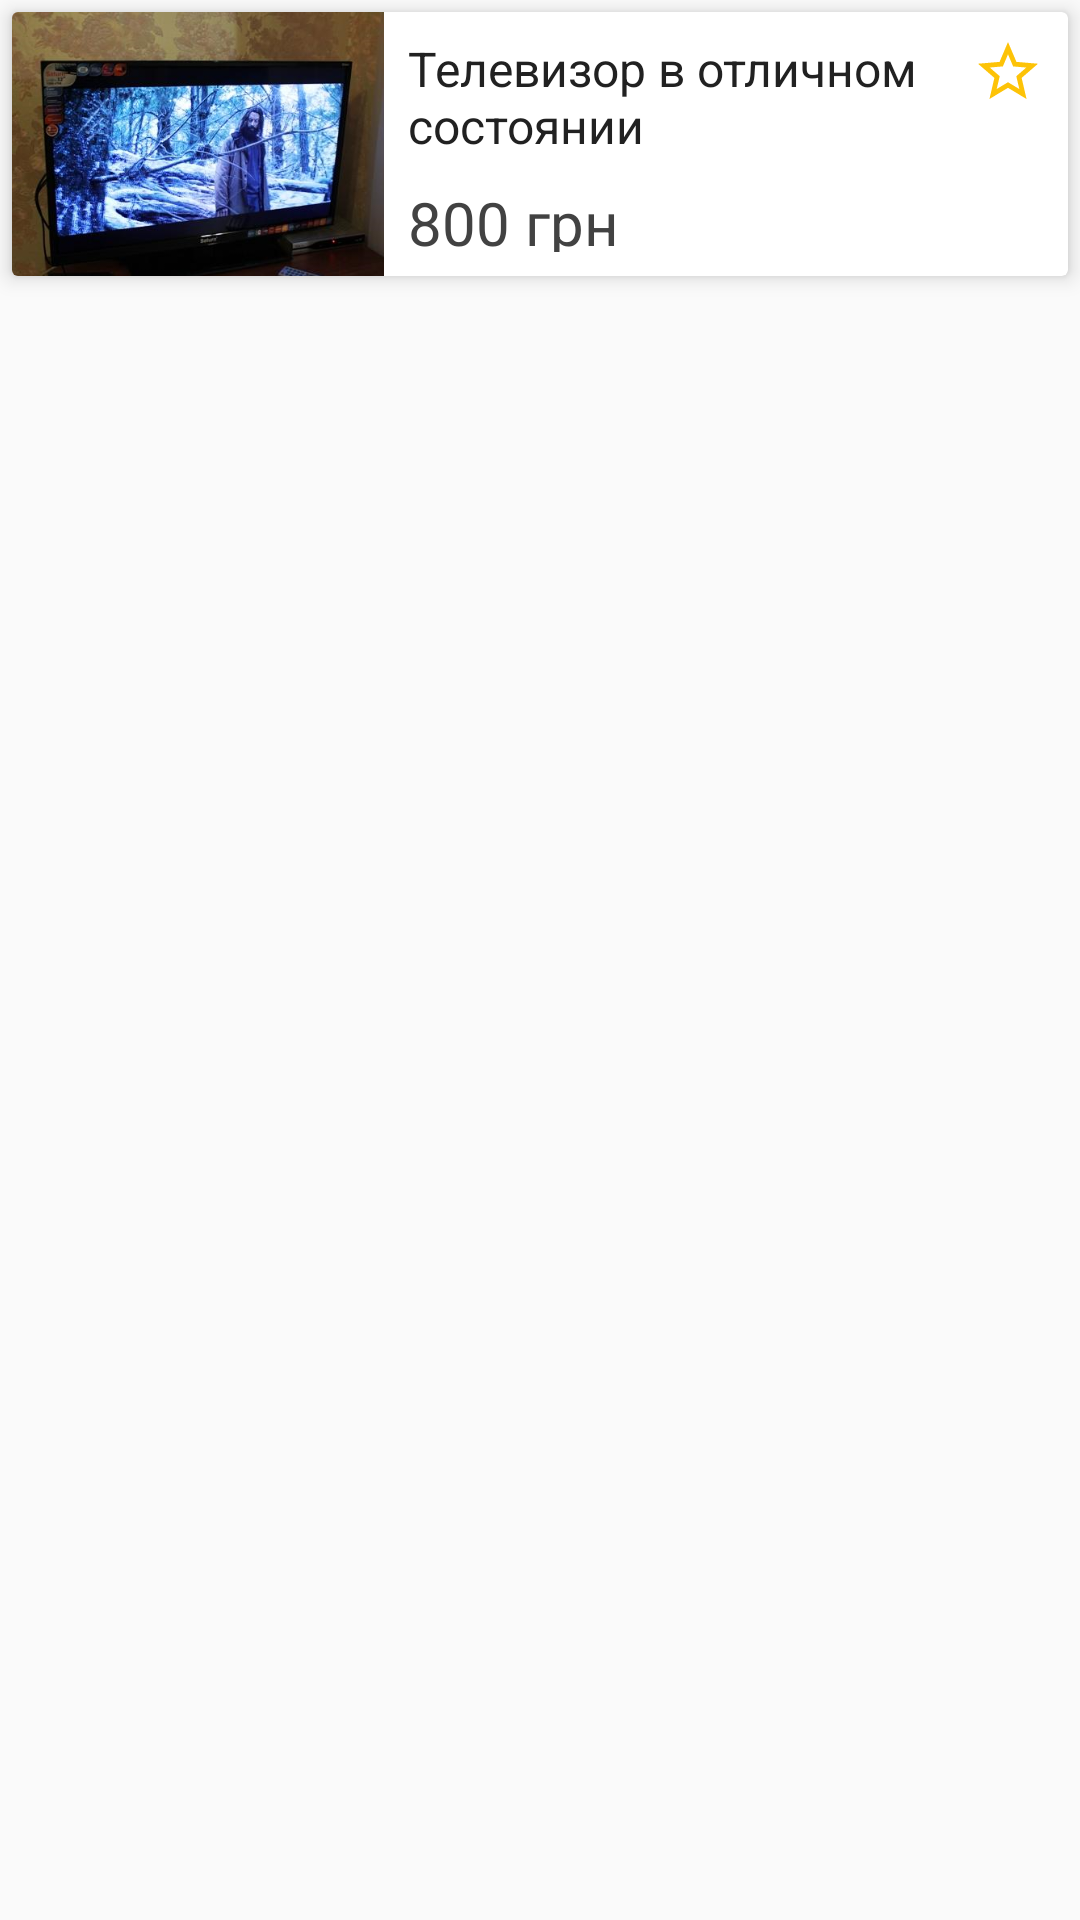

Where icons sit on this 1080px×1920px app screen, as (x1, y1, x2, y2):
star border: (978, 42, 1038, 99)
